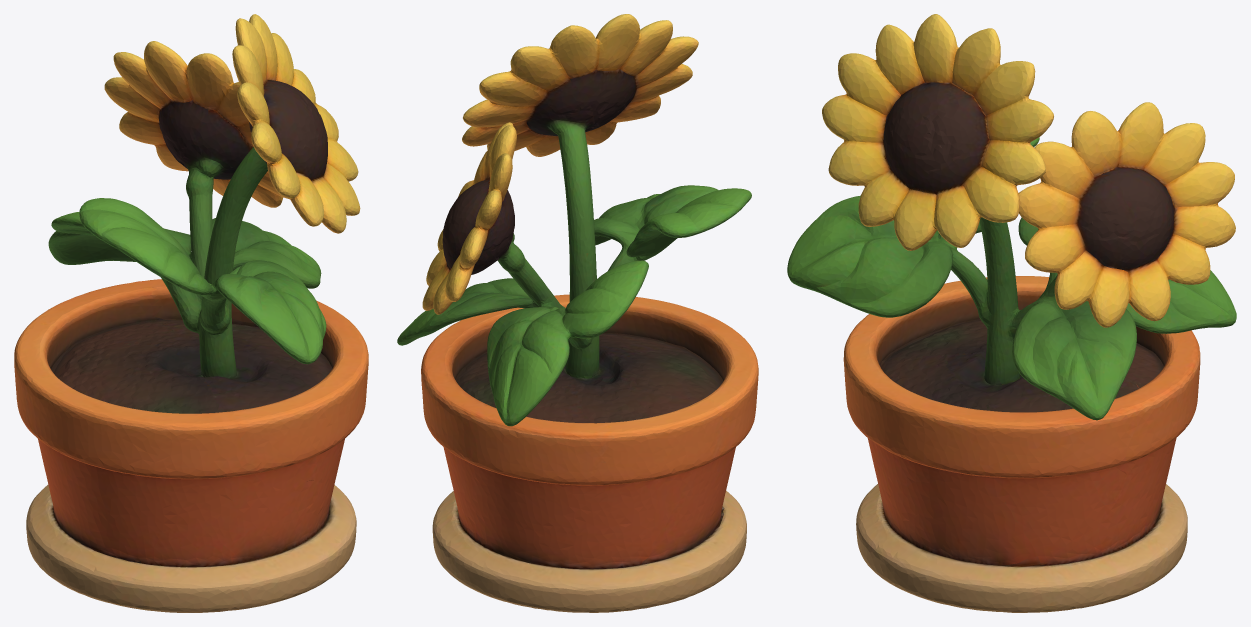
Rendered from flower_1.glb.
The picture shows the model from 3 angles, left to right: view 1: azimuth 30°, elevation 25°; view 2: azimuth 150°, elevation 25°; view 3: azimuth 270°, elevation 25°; orthographic projection. The views are drawn at different scales.
Parts seen in each view (by area): view 1: tripo_node_983004f7-3261-48d2-a2dd-d44c101886e5; view 2: tripo_node_983004f7-3261-48d2-a2dd-d44c101886e5; view 3: tripo_node_983004f7-3261-48d2-a2dd-d44c101886e5.
Part boxes in pixels (left/top/right/bottom): tripo_node_983004f7-3261-48d2-a2dd-d44c101886e5: left=14, top=14, right=368, bottom=612; tripo_node_983004f7-3261-48d2-a2dd-d44c101886e5: left=397, top=14, right=758, bottom=612; tripo_node_983004f7-3261-48d2-a2dd-d44c101886e5: left=787, top=14, right=1236, bottom=612.
Size of the model in its own units: 0.6249 by 0.9995 by 0.7617.
1 material, 1 textured.
